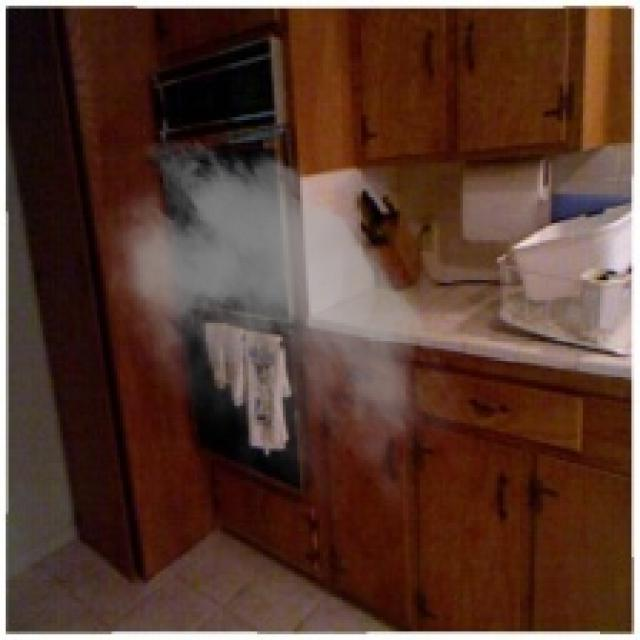smoke: (86, 126, 468, 520)
